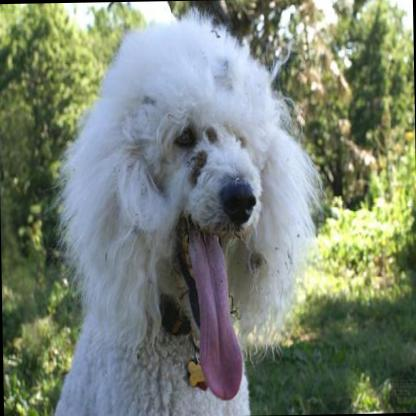standard_poodle: (42, 8, 326, 416)
